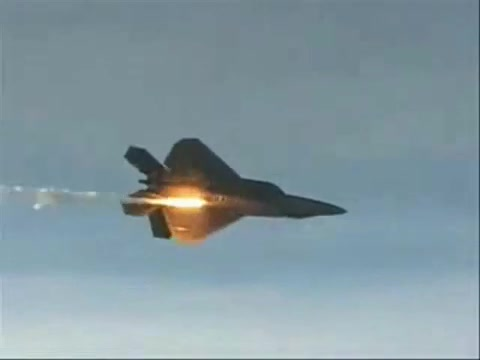aeroplane: (121, 139, 349, 242)
